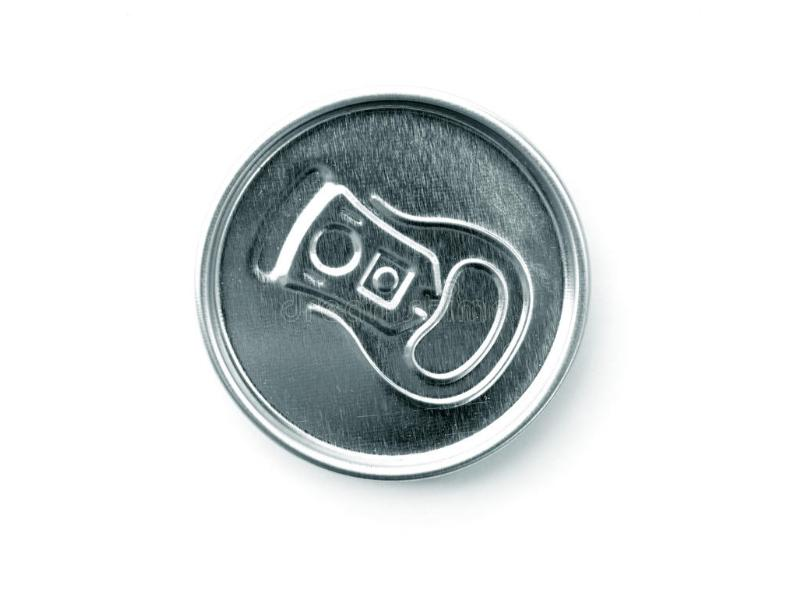can: (185, 88, 606, 490)
